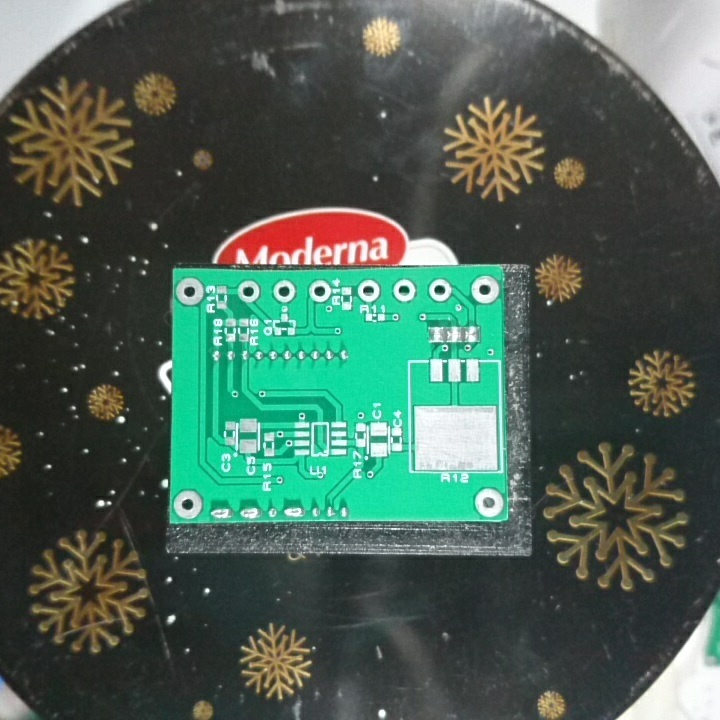F: (468, 274, 503, 306), (171, 487, 205, 519), (174, 275, 205, 310), (473, 486, 505, 519), (391, 275, 416, 307), (235, 279, 263, 306), (356, 277, 382, 306), (426, 277, 453, 303), (306, 278, 332, 304), (270, 279, 297, 304)
P: (279, 503, 306, 523), (236, 504, 263, 523), (208, 505, 232, 523)
